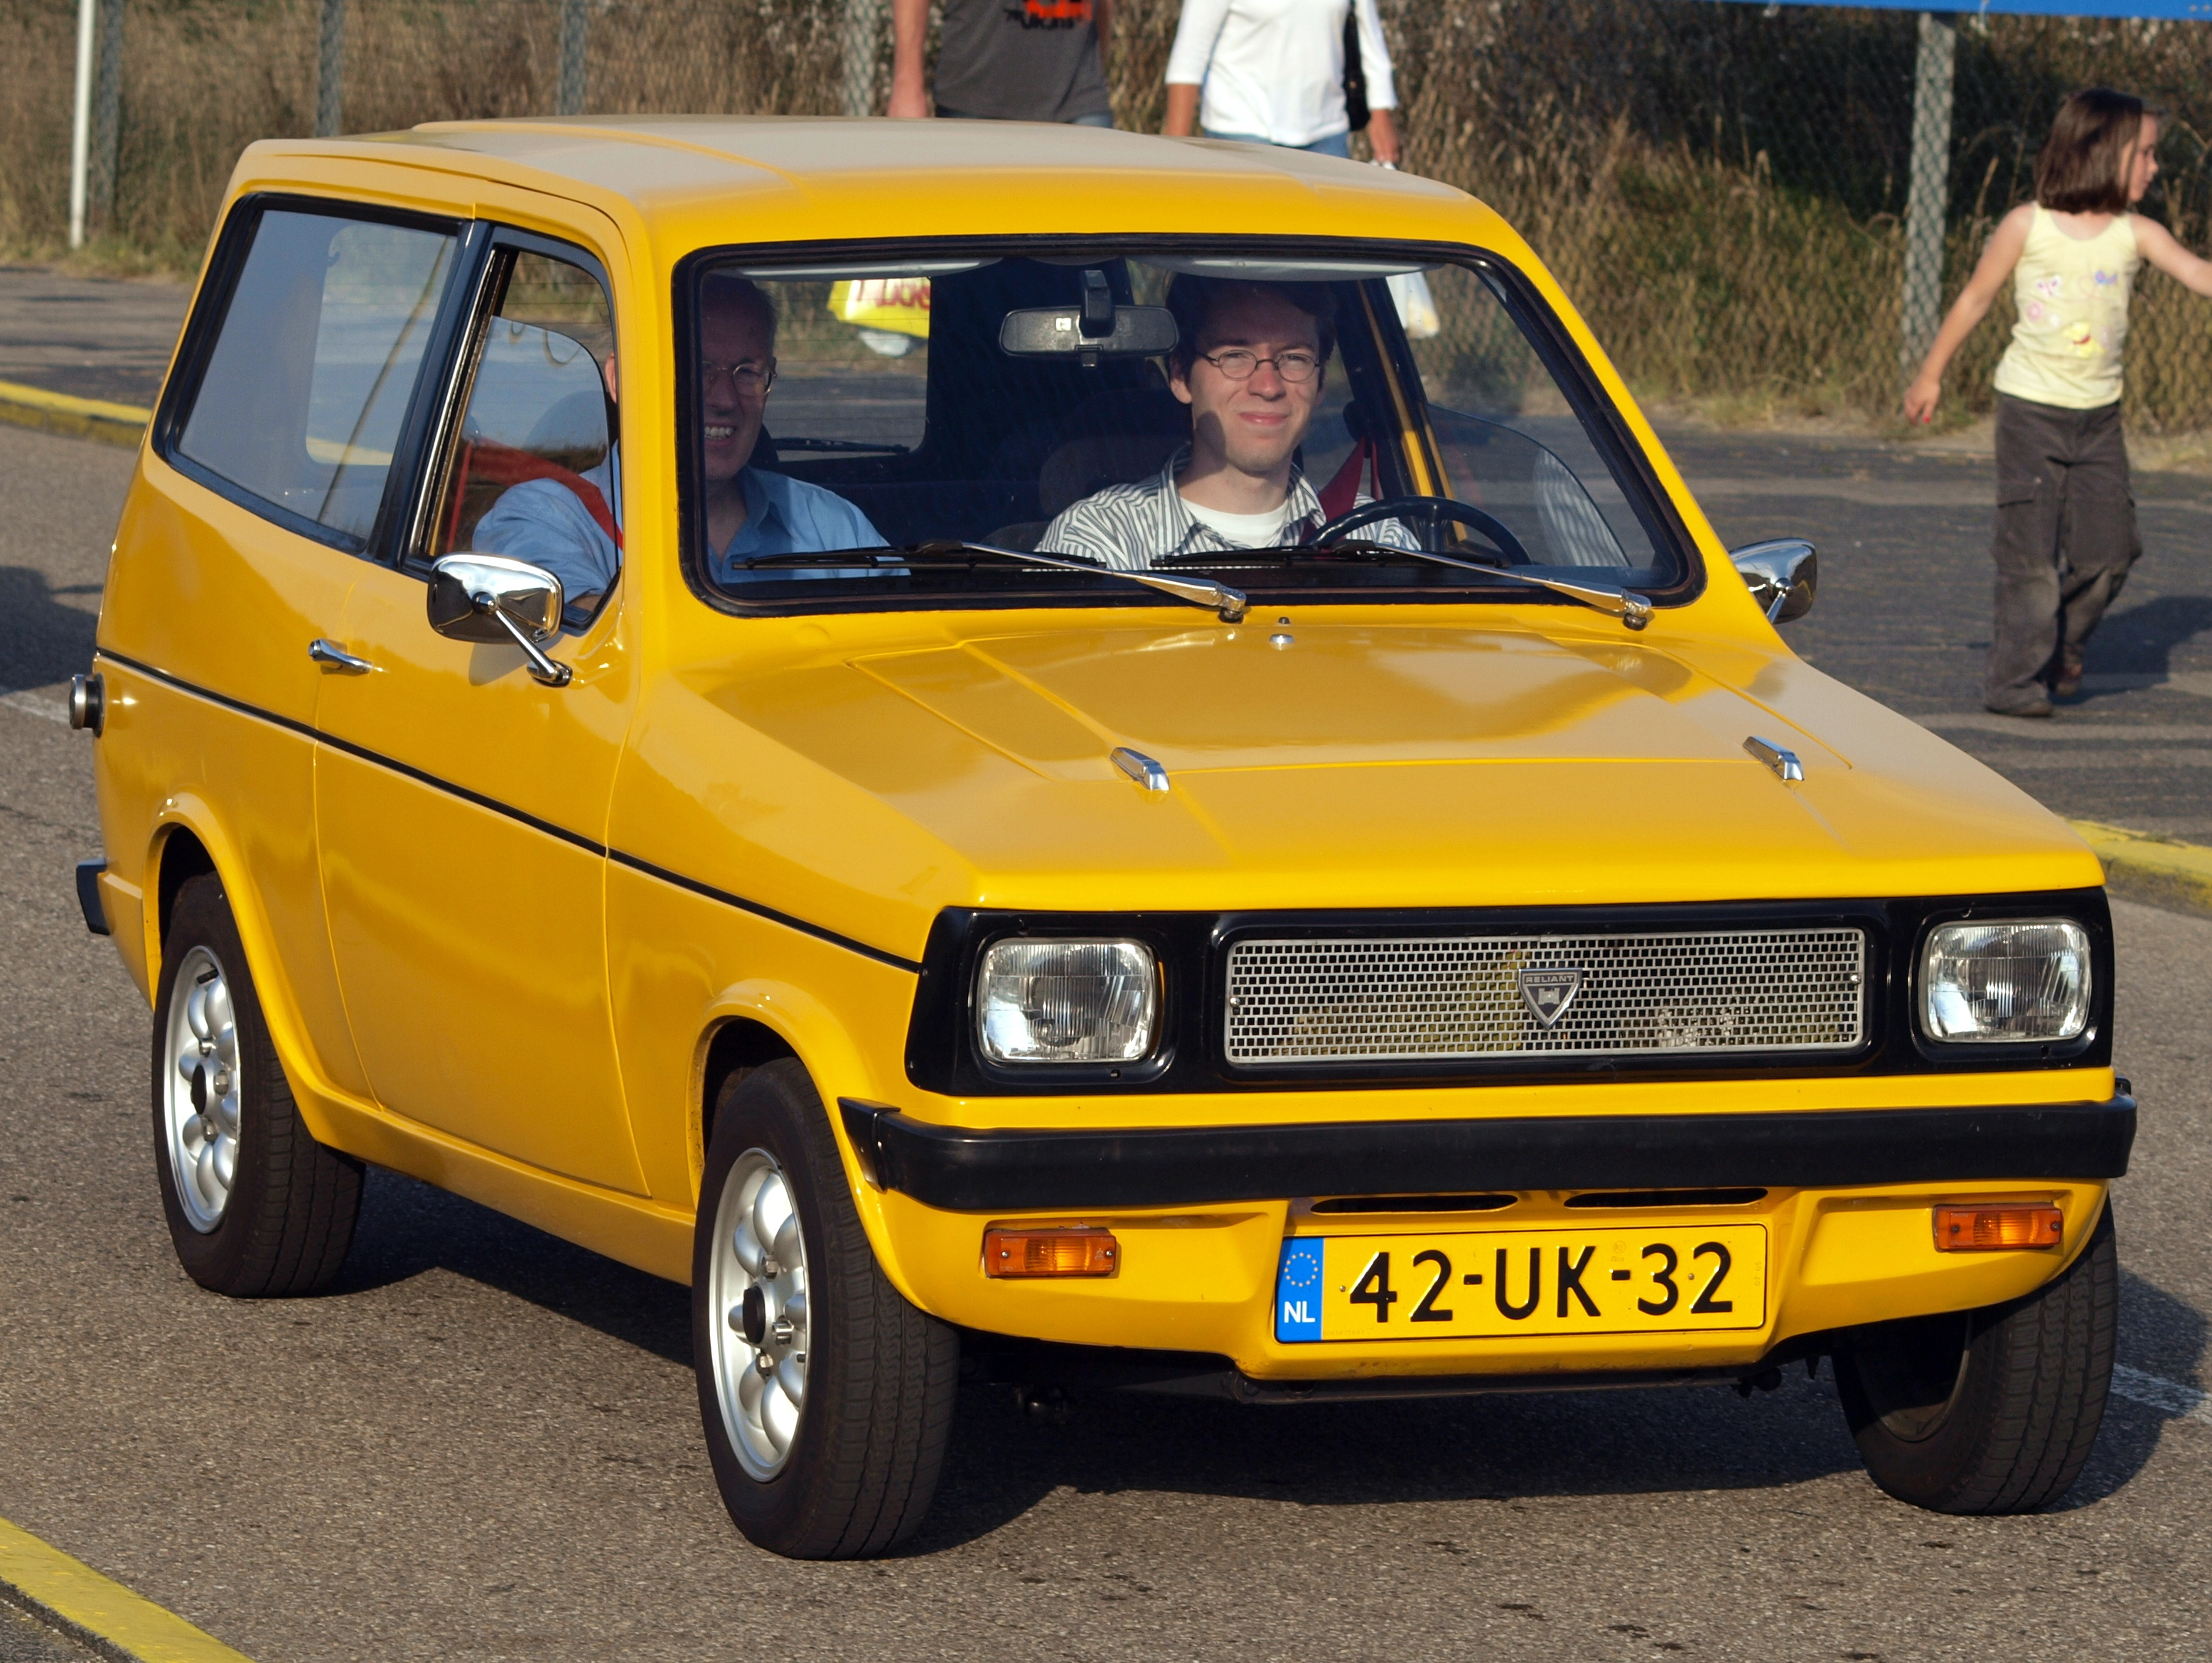num_plate: (1282, 1232, 1772, 1338)
